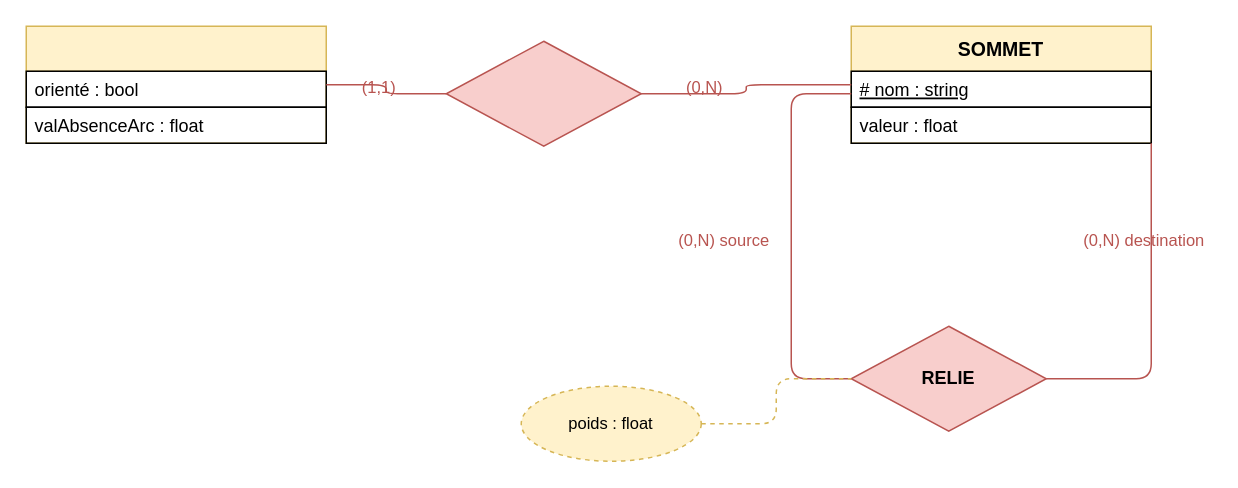
Image size: 1238x488. Some labels were removed from this diagram. The box of each missing label's shape, as (x1, y1, x2, y2) in pixels:
CONTIENT: (445, 40, 641, 146)
GRAPHE: (25, 25, 326, 143)
